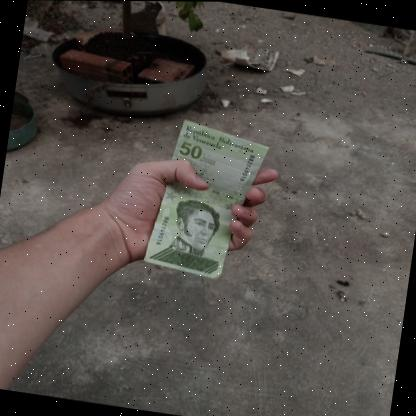fifty-front-vef: (141, 114, 271, 283)
